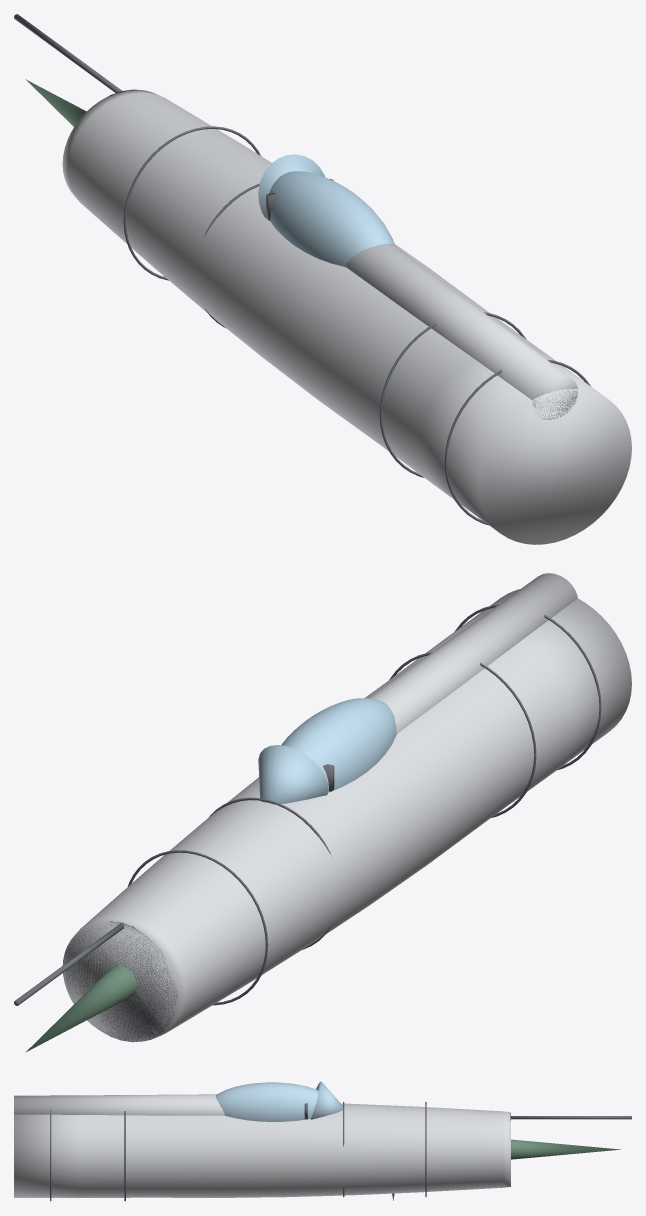
The model's file is mig21_front.glb.
3 renders of one model, top to bottom at view 1: azimuth 30°, elevation 25°; view 2: azimuth 150°, elevation 25°; view 3: azimuth 270°, elevation 25°, orthographic. The views are drawn at different scales.
Visible parts, largest first — view 1: mig21_front; view 2: mig21_front; view 3: mig21_front.
Part boxes in pixels (x1,y1,x2,y2): mig21_front: [14, 14, 631, 544]; mig21_front: [14, 573, 631, 1052]; mig21_front: [14, 1081, 631, 1201].
Bounding box in the file's own units: 0.794 × 0.9978 × 4.72.
